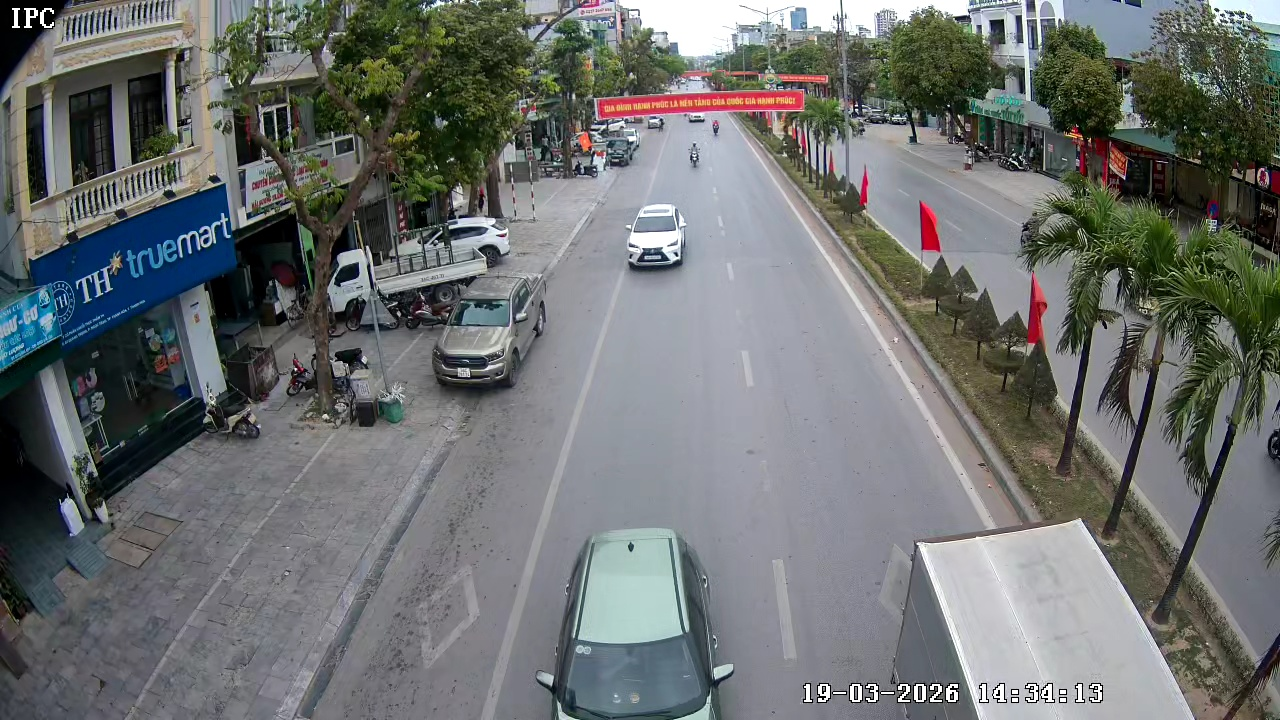car: (872, 517, 1202, 719), (534, 525, 737, 719), (430, 273, 546, 387), (625, 202, 689, 270)
motorbike: (686, 139, 703, 169), (712, 119, 724, 137)
truck: (603, 136, 643, 167)
